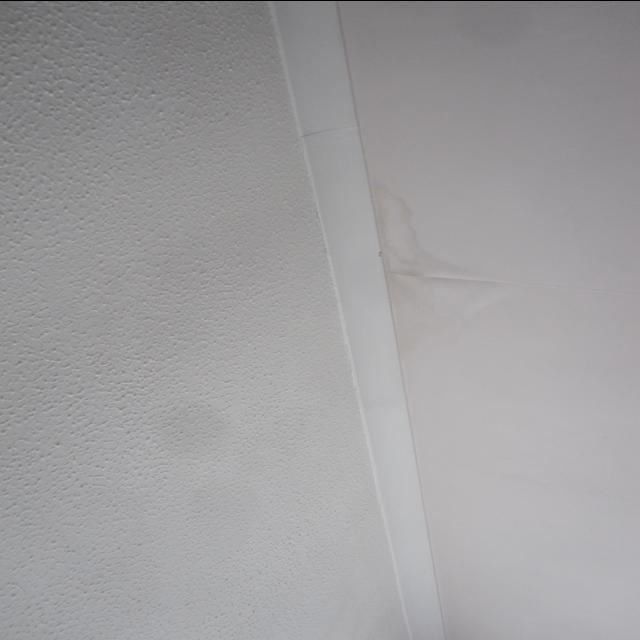leak: (378, 187, 508, 306), (150, 411, 230, 472)
